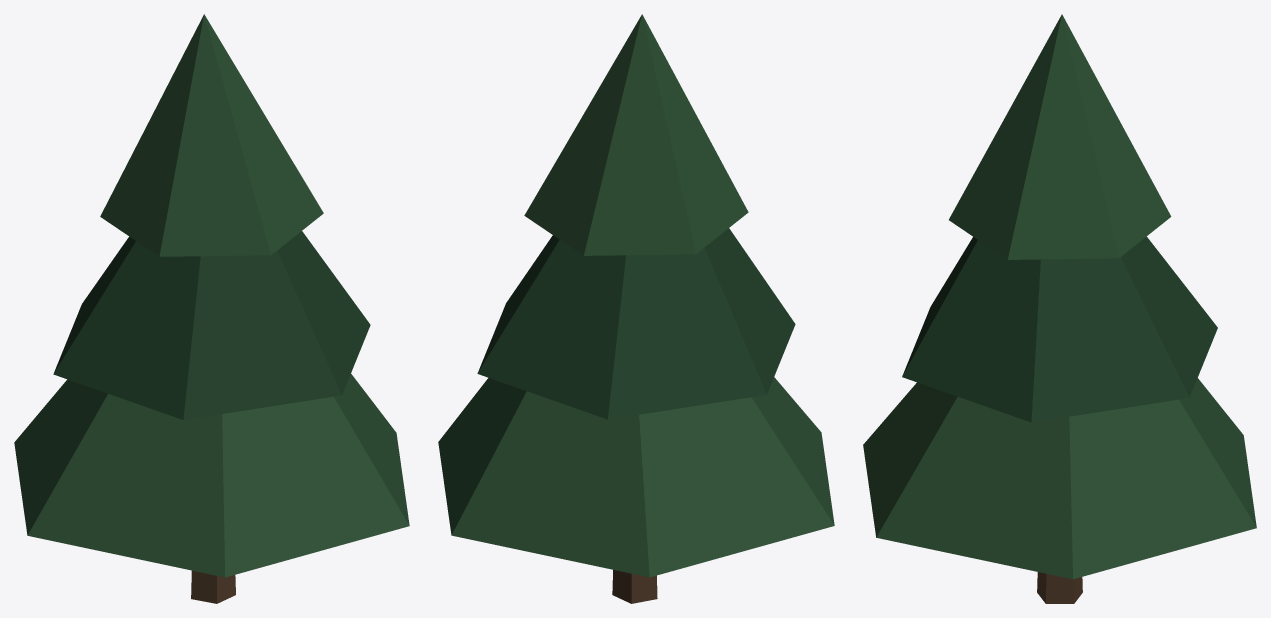
The model's file is Low Poly - Pine-BVTZw7Un.glb.
3 views of the same model, side by side, from view 1: azimuth 30°, elevation 25°; view 2: azimuth 150°, elevation 25°; view 3: azimuth 270°, elevation 25° (orthographic).
Visible parts, largest first — view 1: body; view 2: body; view 3: body.
Boxes of the visible parts, box(x1,y1,x2,y2) form: body: box(14, 14, 409, 603); body: box(438, 14, 834, 603); body: box(863, 14, 1256, 603).
Size of the model in its own units: 1.64 by 2.38 by 1.47.
